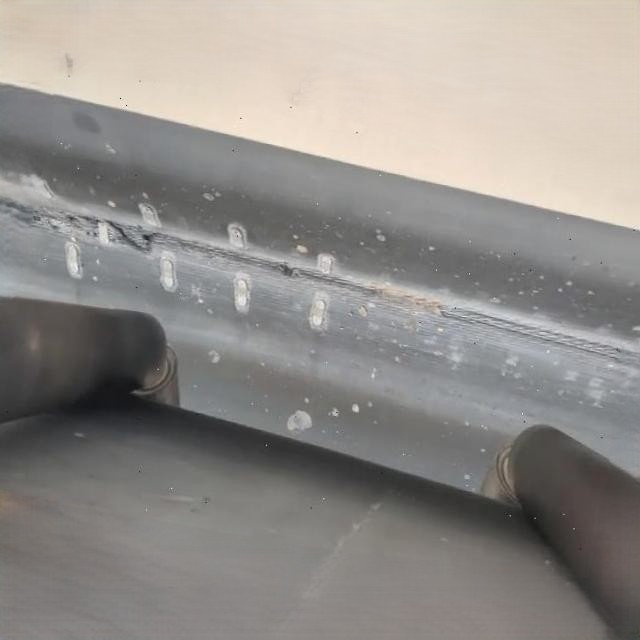Tear: (11, 198, 158, 256)
Wear: (155, 228, 638, 368)
